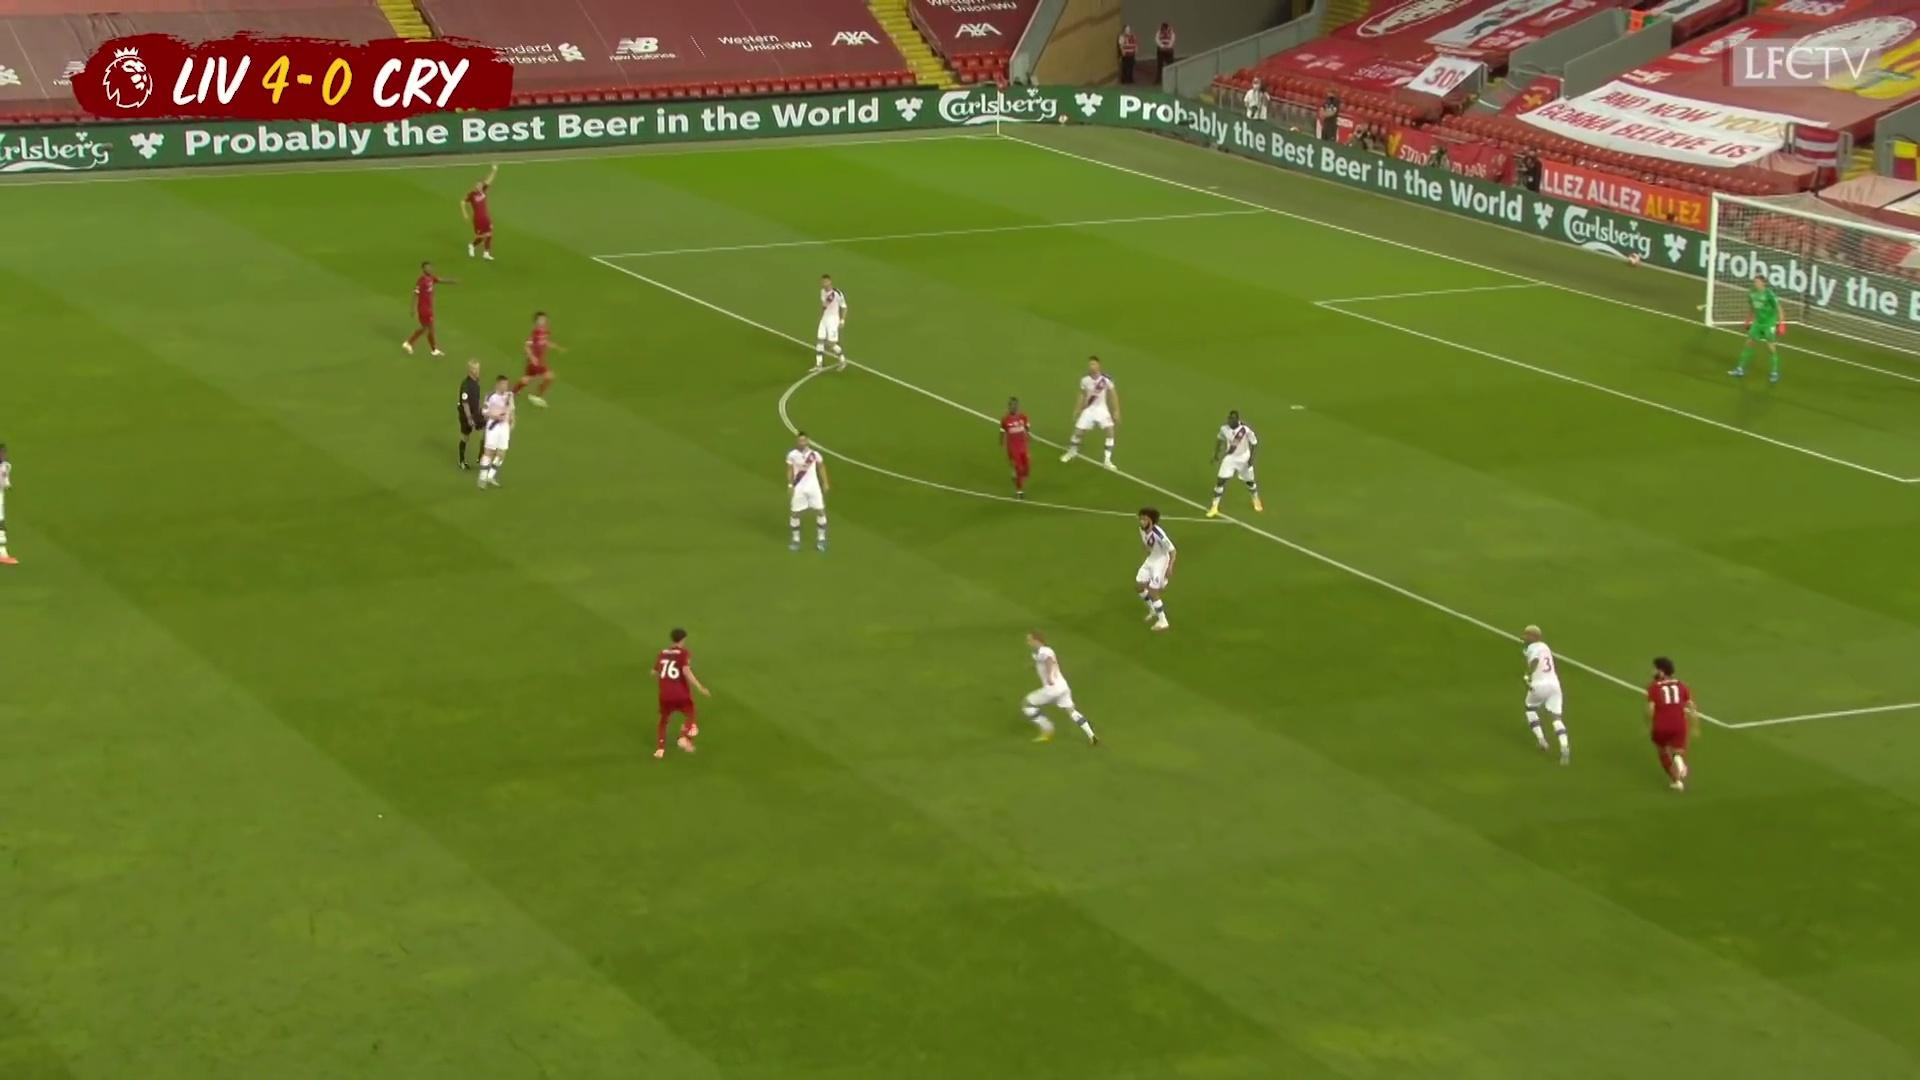ball: (681, 721, 701, 741)
goalkeeper: (1725, 272, 1787, 386)
player: (1015, 626, 1103, 750), (1639, 649, 1703, 794), (649, 625, 711, 763), (1517, 620, 1573, 770), (1060, 355, 1128, 474), (1204, 406, 1272, 519), (781, 429, 836, 556), (1129, 506, 1181, 635), (474, 368, 525, 494), (402, 259, 461, 362), (514, 308, 565, 410), (809, 273, 854, 377), (995, 393, 1038, 500), (460, 159, 503, 262), (0, 433, 23, 571)
referee: (454, 359, 494, 483)
